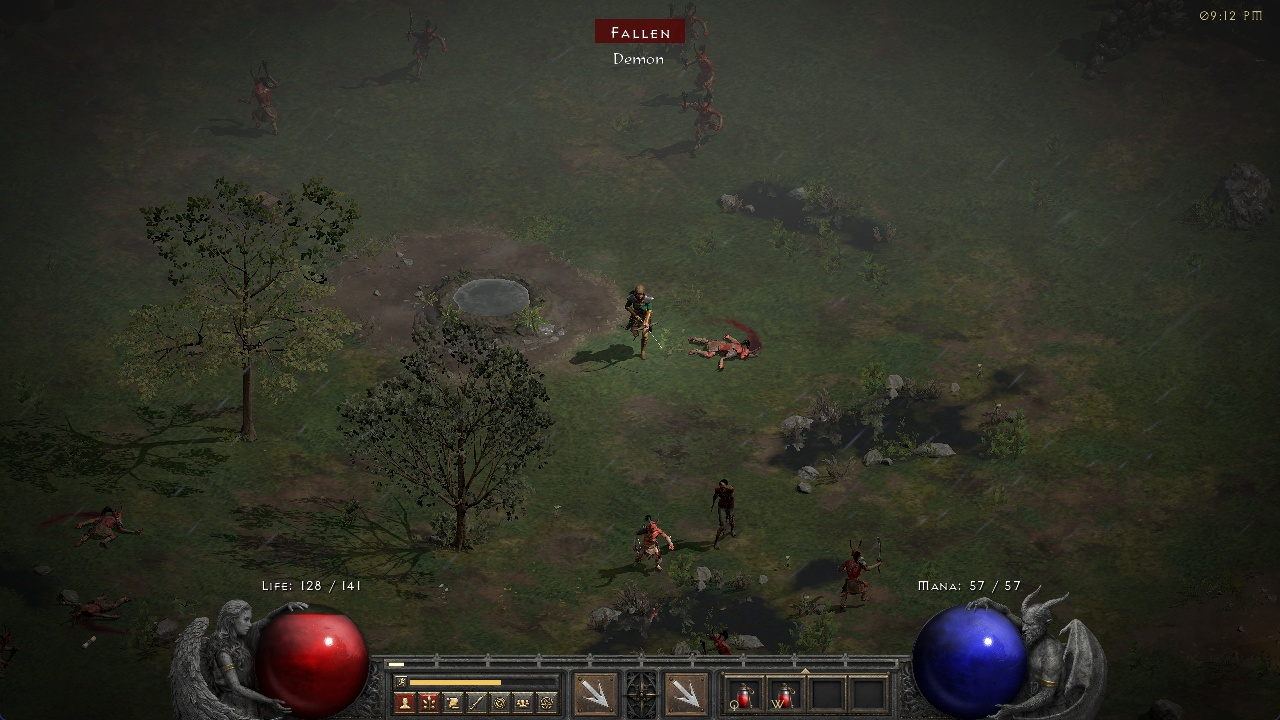fallen: (831, 533, 889, 610), (241, 54, 286, 132), (401, 5, 449, 78), (681, 90, 726, 152), (629, 510, 673, 571), (680, 44, 718, 89), (691, 624, 738, 654), (683, 8, 708, 39)
